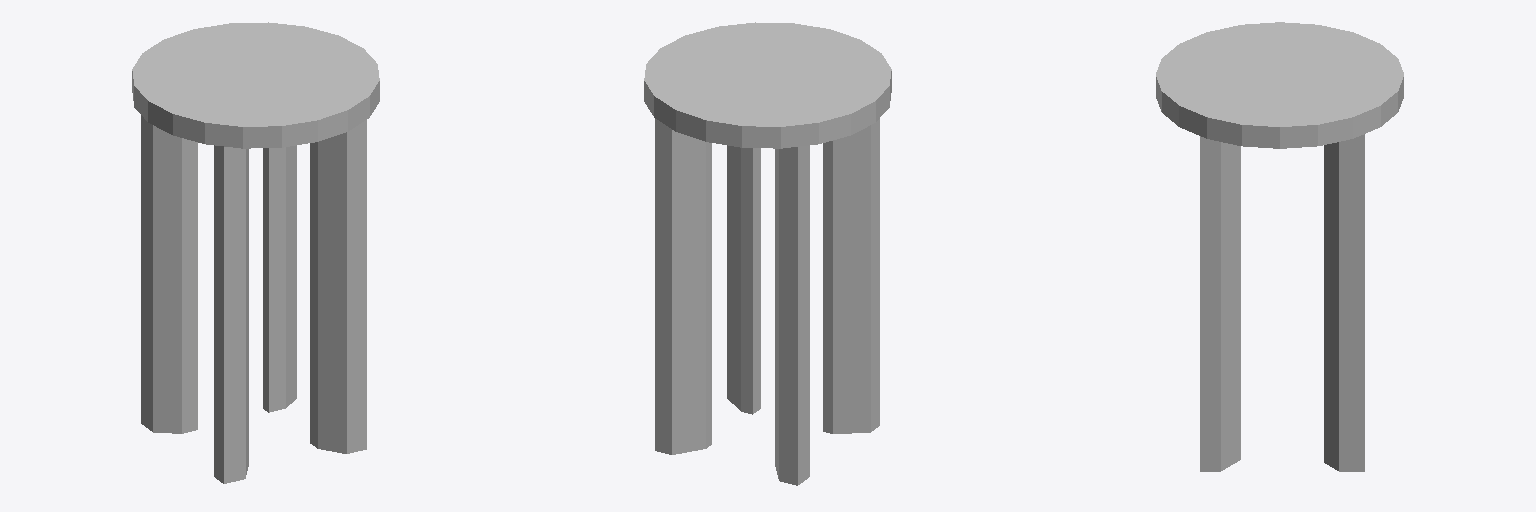
File: restaurant-chair.obj
3 renders of one model, left to right at view 1: azimuth 30°, elevation 25°; view 2: azimuth 150°, elevation 25°; view 3: azimuth 270°, elevation 25°, orthographic.
Visible parts, largest first — view 1: pCylinder1; view 2: pCylinder1; view 3: pCylinder1.
Part boxes in pixels (x1,y1,x2,y2): pCylinder1: (132, 22, 379, 483); pCylinder1: (644, 22, 891, 485); pCylinder1: (1156, 22, 1403, 471).
Size of the model in its own units: 6.03 by 9.7 by 6.03.